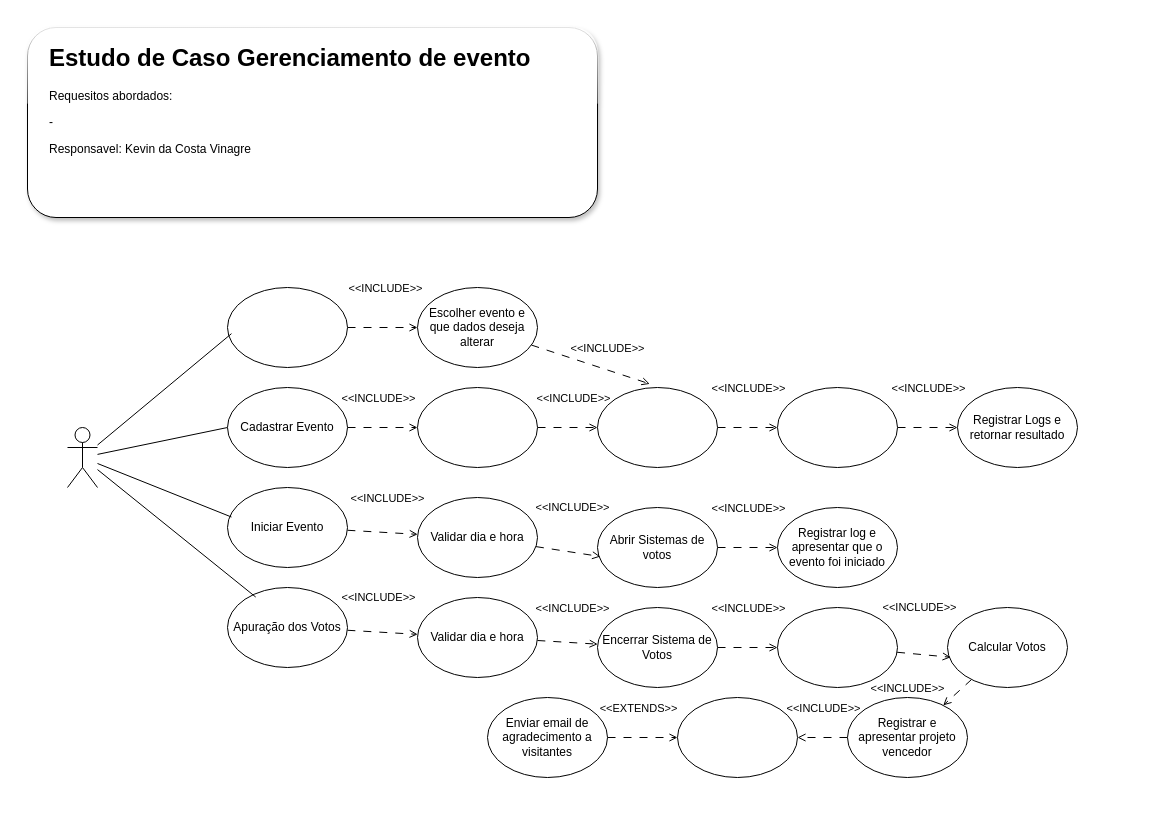
This 1164x824 diagram has some shape labels left out. The shapes that lost their labels are listed below. From the top down, each one's centre as x and y in pixels, then its label:
At point (287, 327): "Editar Evento".
At point (477, 427): "Preencher Formulario de Cadastro".
At point (657, 427): "Validar e registrar dados".
At point (837, 427): "Ajustar Crowjobs e agendadores".
At point (82, 457): "Coordenador".
At point (837, 647): "Filtrar Projetos Validos".
At point (737, 737): "Encerrar o evento".
